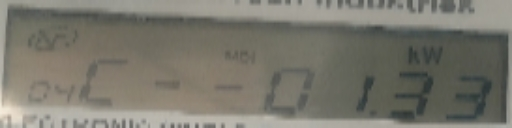0: (266, 55, 314, 110)
1: (341, 53, 380, 112)
3: (439, 69, 492, 123), (393, 67, 432, 120)
d: (367, 105, 384, 121)
